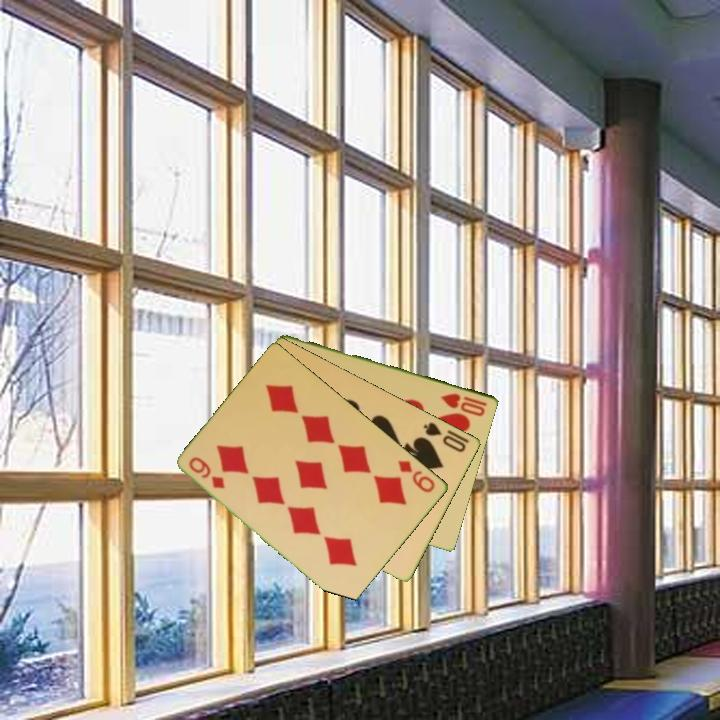10h: (437, 389, 490, 419)
10s: (420, 419, 469, 455)
9d: (395, 456, 438, 496), (185, 453, 229, 492)
